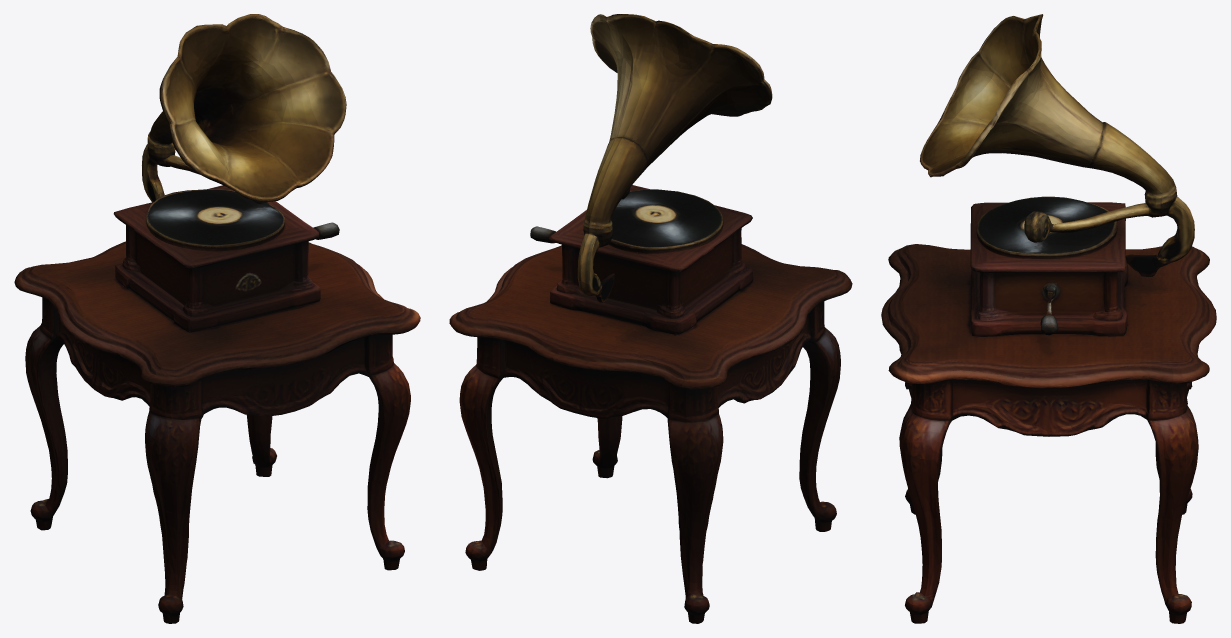
Rendered from table_gramophone.glb.
3 views of the same model, side by side, from view 1: azimuth 30°, elevation 25°; view 2: azimuth 150°, elevation 25°; view 3: azimuth 270°, elevation 25° (orthographic). The views are drawn at different scales.
Visible parts, largest first — view 1: world; view 2: world; view 3: world.
Boxes of the visible parts, x1,y1,x2,y2 form: world: (14,14,420,623); world: (449,14,852,623); world: (881,14,1216,623).
Bounding box in the file's own units: 0.5625 × 0.9976 × 0.562.
1 material, 1 textured.
